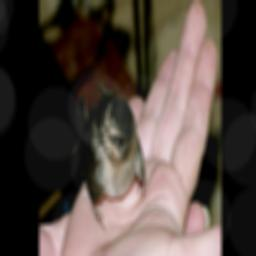Swallow: (64, 79, 147, 237)
